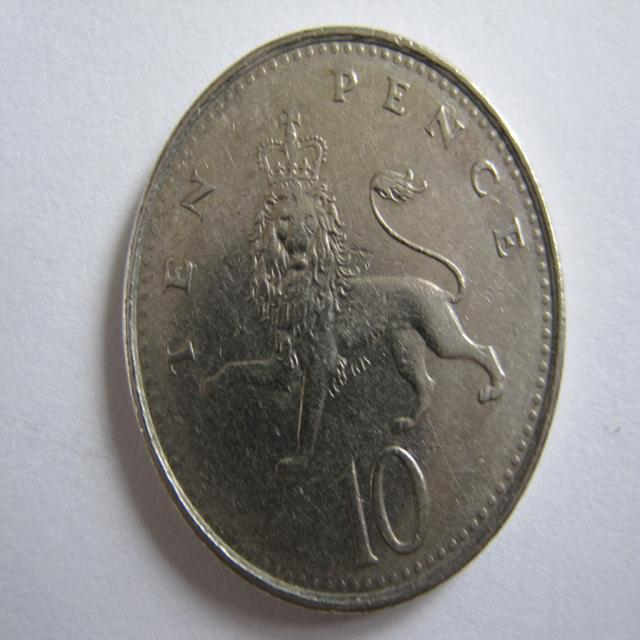Coin: (117, 28, 576, 608)
